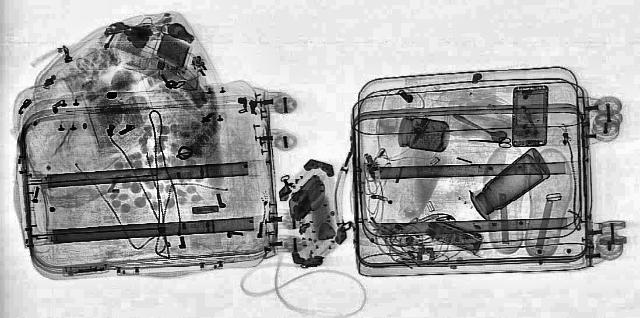Scissors: (466, 135, 512, 147)
